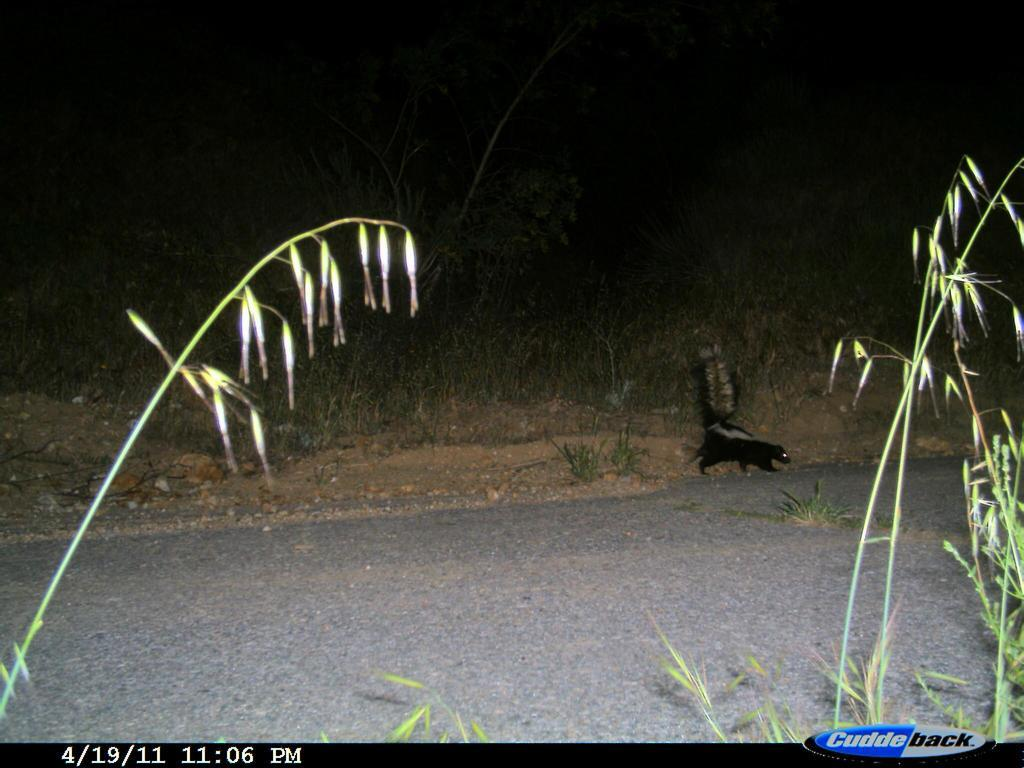skunk: (685, 331, 801, 481)
